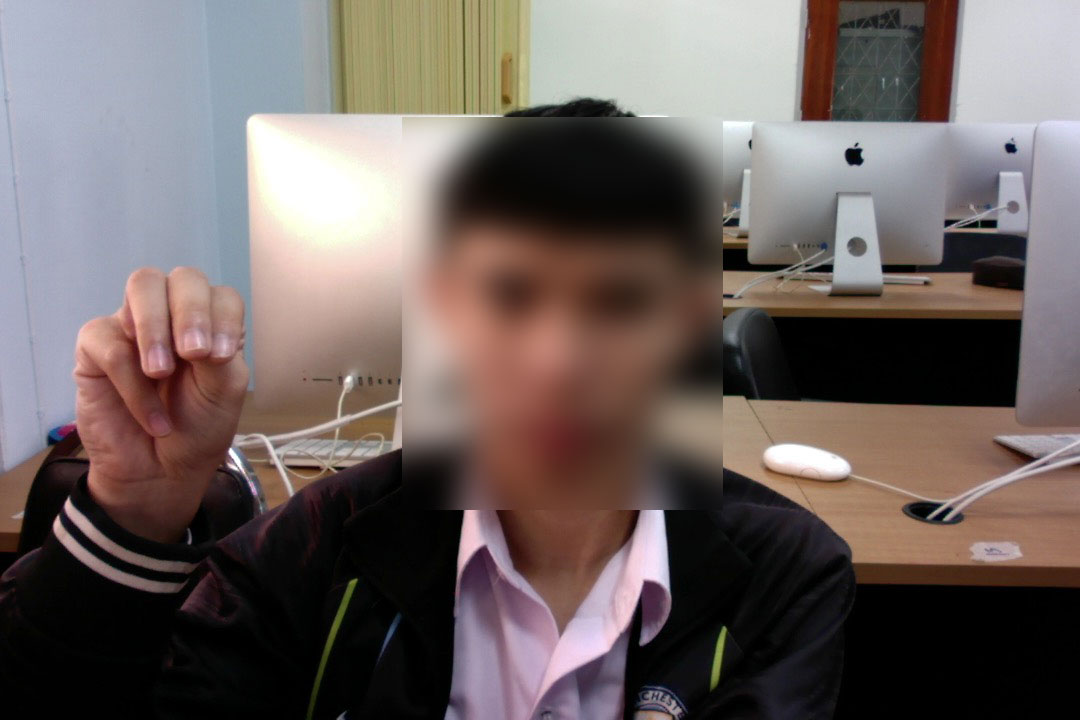mor: (63, 246, 262, 495)
